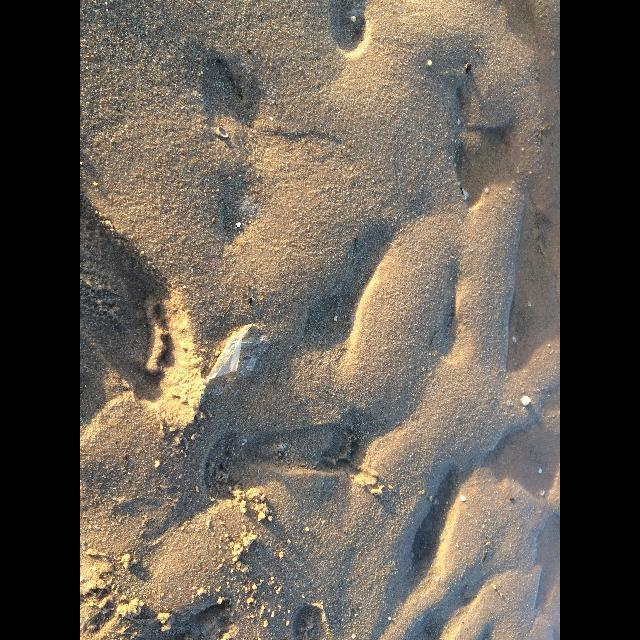Plastic: (202, 324, 272, 402)
